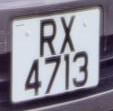1: (61, 52, 74, 94)
3: (70, 49, 91, 92)
4: (22, 56, 44, 100)
7: (41, 53, 63, 99)
R: (35, 15, 60, 59)
X: (59, 11, 78, 57)
